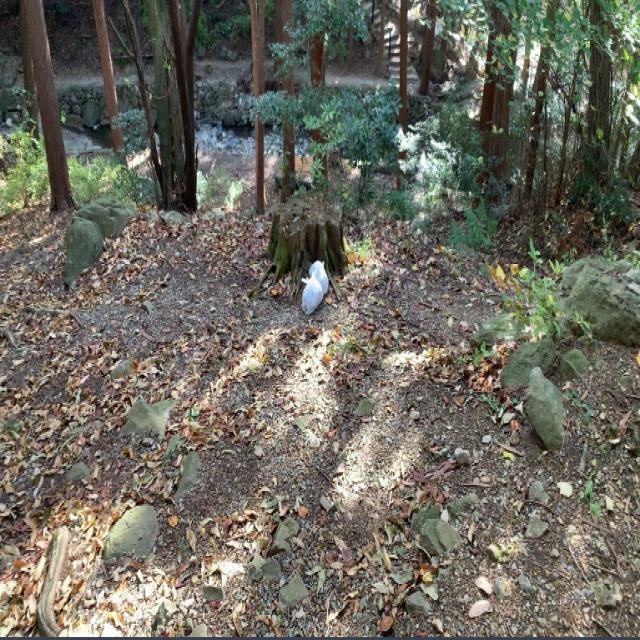Garbage_Bag: (300, 272, 324, 318), (307, 258, 331, 298)
